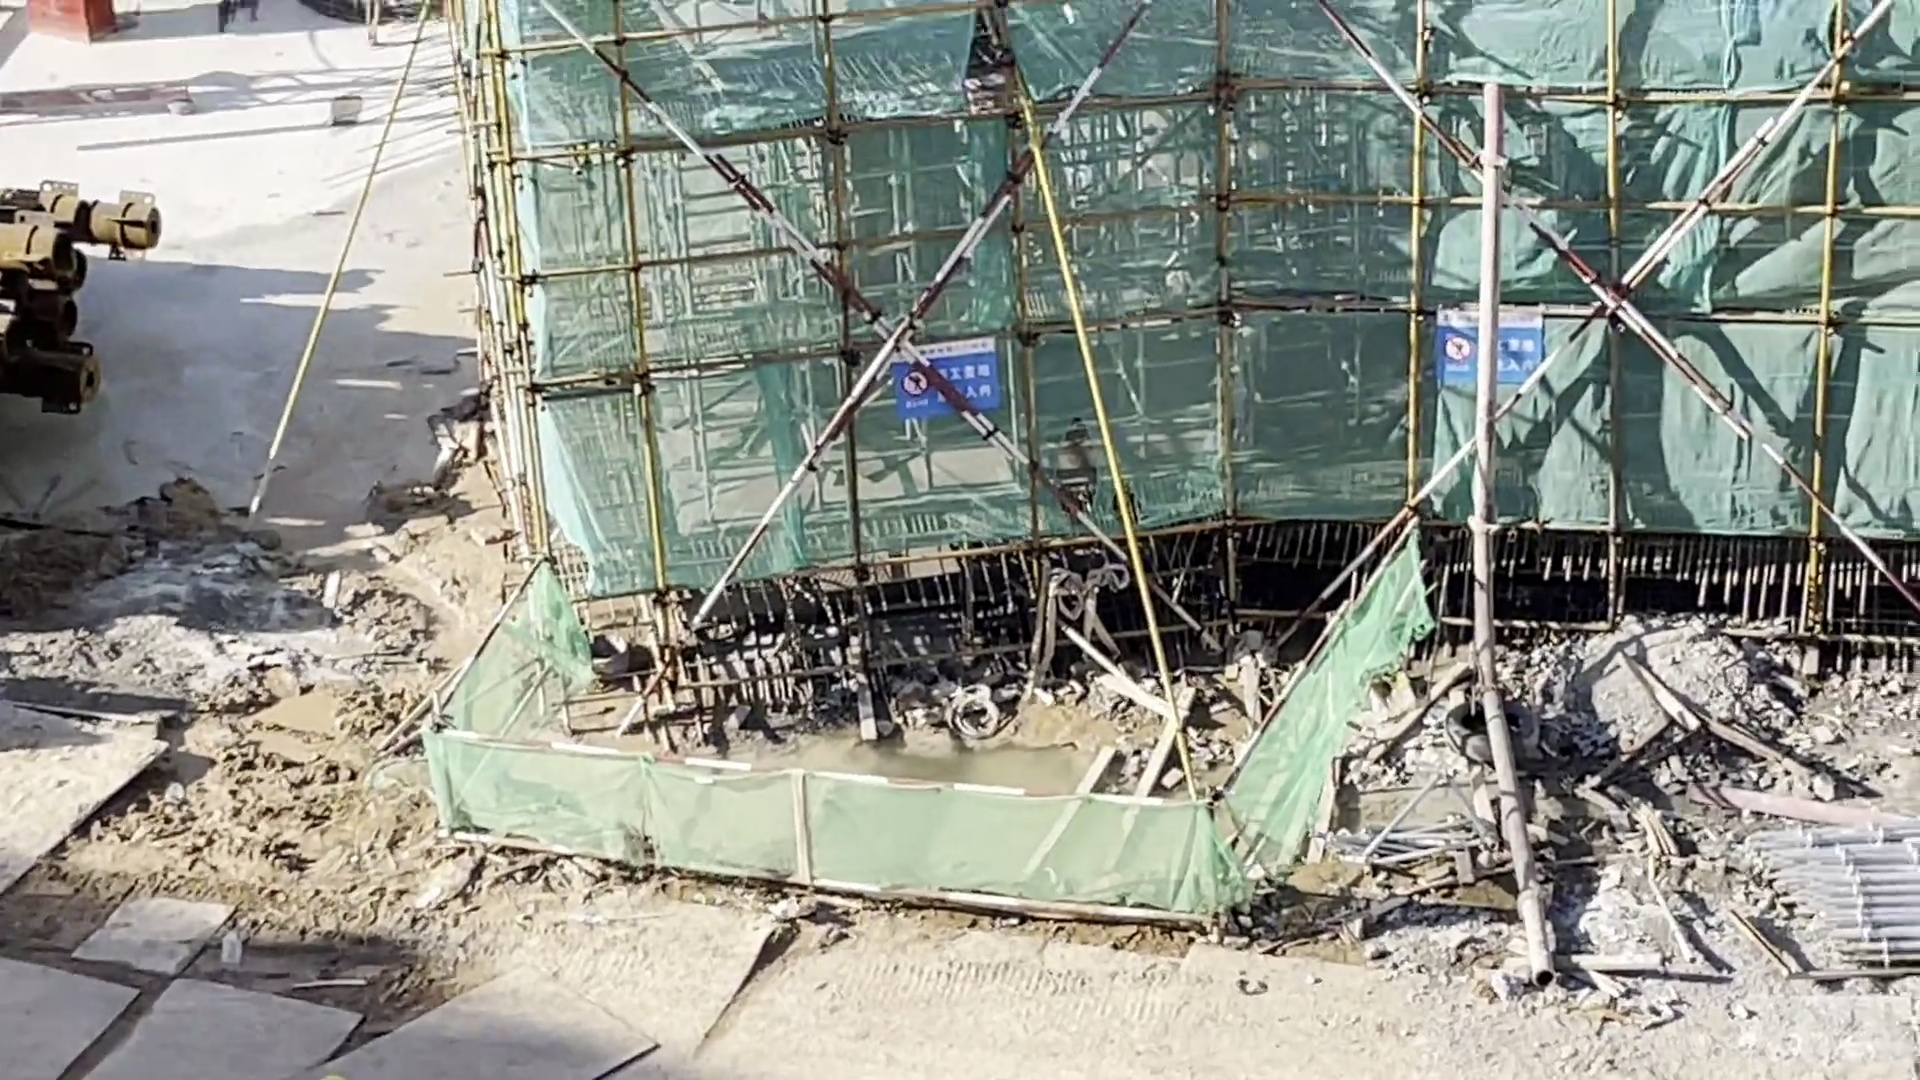scaffold: (1729, 790, 1920, 978)
slogan: (855, 316, 1025, 433), (1422, 309, 1567, 397)
